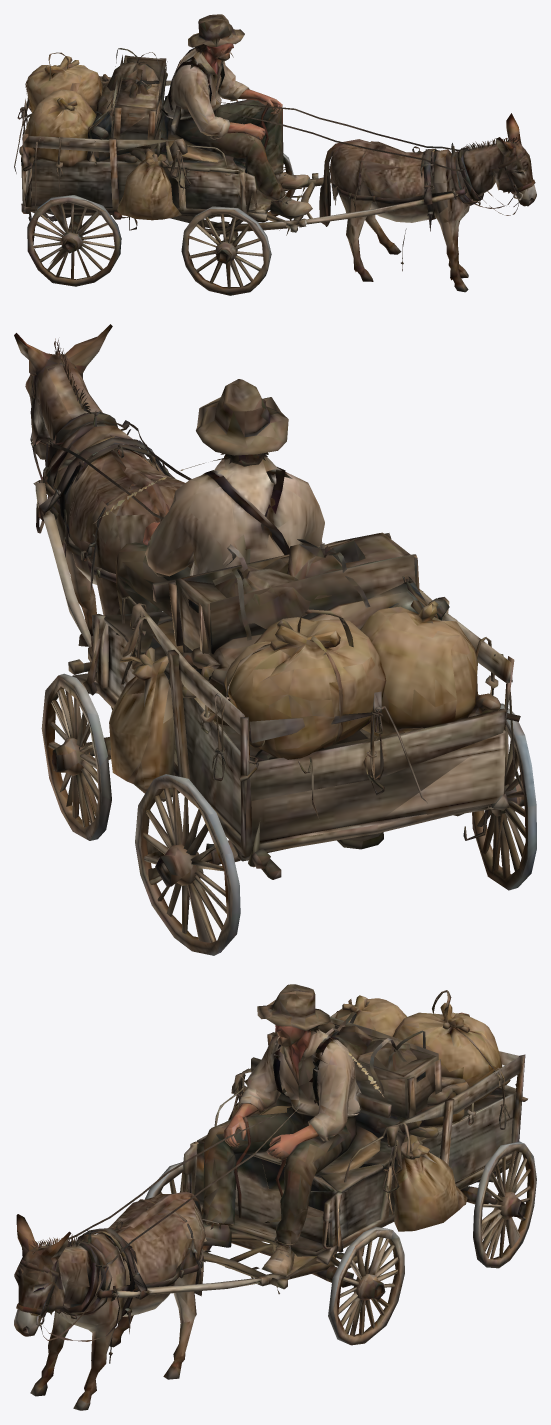
Rendered from donkey_cart.glb.
3 views of the same model, one above another, from view 1: azimuth 30°, elevation 25°; view 2: azimuth 150°, elevation 25°; view 3: azimuth 270°, elevation 25° (orthographic). The views are drawn at different scales.
Visible parts, largest first — view 1: tripo_node_1c7aa431; view 2: tripo_node_1c7aa431; view 3: tripo_node_1c7aa431.
Boxes of the visible parts, x1,y1,x2,y2 form: tripo_node_1c7aa431: [14, 14, 536, 295]; tripo_node_1c7aa431: [14, 324, 536, 955]; tripo_node_1c7aa431: [14, 984, 536, 1410].
Bounding box in the file's own units: 0.9987 × 0.5875 × 0.8827.
Materials: 1 (1 with a texture image).
